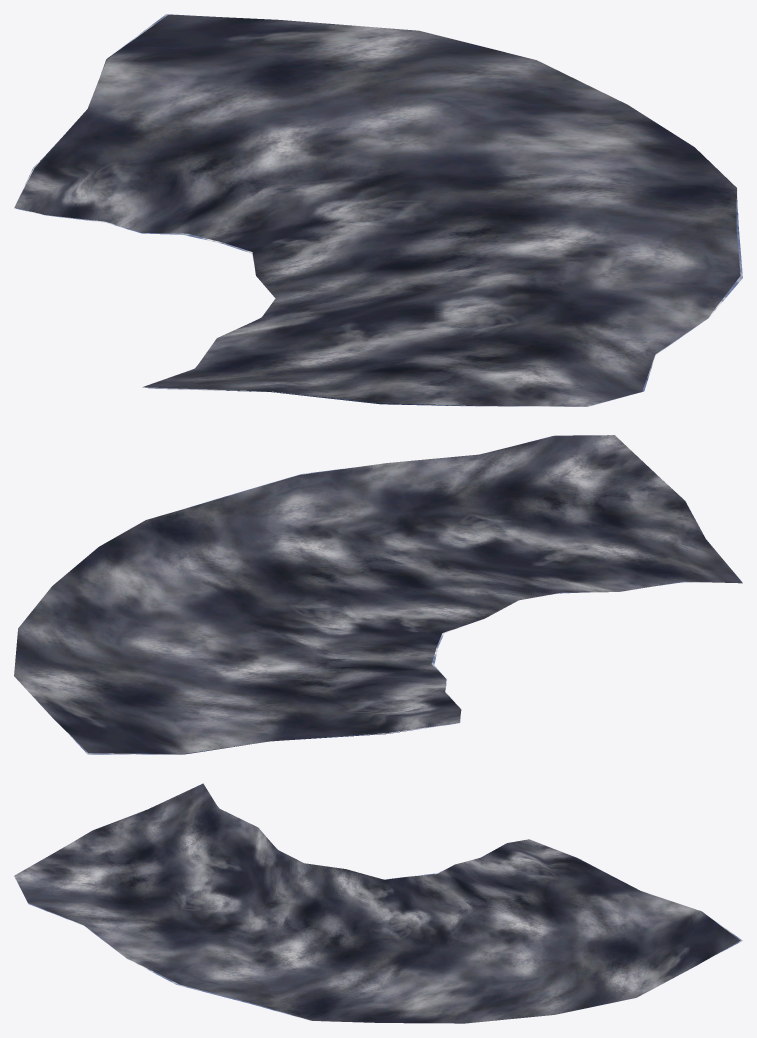
Rendered from HTOWN01_WATER.fbx.
The picture shows the model from 3 angles, top to bottom: view 1: azimuth 30°, elevation 25°; view 2: azimuth 150°, elevation 25°; view 3: azimuth 270°, elevation 25°; orthographic projection. The views are drawn at different scales.
Parts seen in each view (by area): view 1: HTOWN01_WATER; view 2: HTOWN01_WATER; view 3: HTOWN01_WATER.
Boxes of the visible parts, x1,y1,x2,y2 form: HTOWN01_WATER: (14,14,742,406); HTOWN01_WATER: (14,435,742,754); HTOWN01_WATER: (14,783,742,1023).
Bounding box in the file's own units: 250888 × 14070 × 345755.
2 materials, 2 textured.
